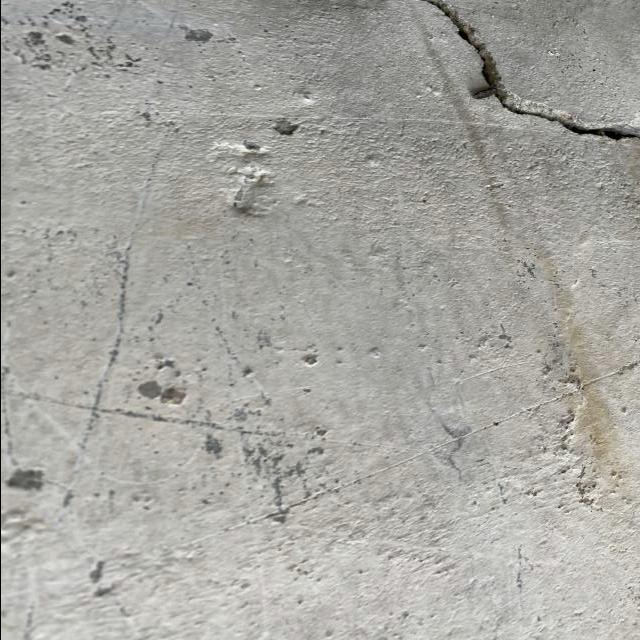SurfaceCrack: (417, 0, 512, 70), (540, 104, 640, 142)
